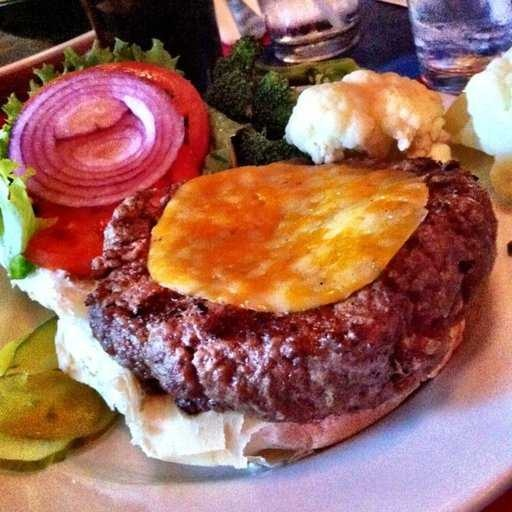hamburger: (89, 146, 496, 425)
